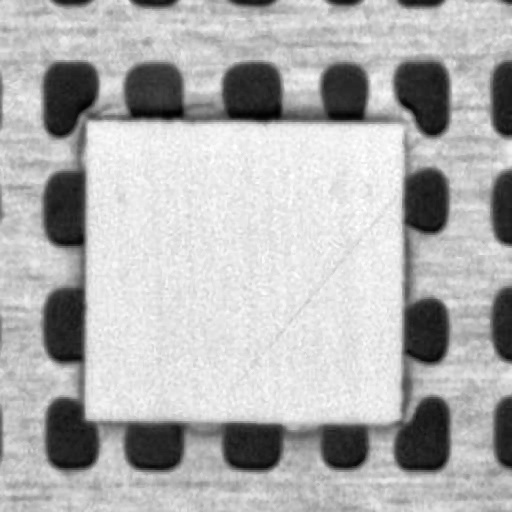DIE_CRACK: (299, 147, 512, 296)
